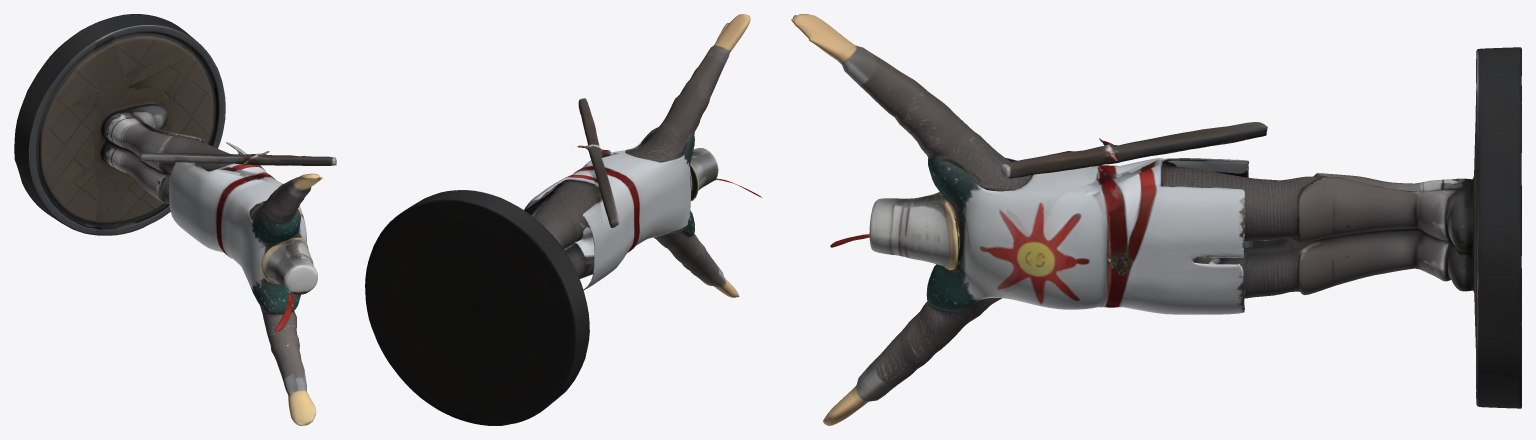
Rendered from sola.obj.
3 views of the same model, side by side, from view 1: azimuth 30°, elevation 25°; view 2: azimuth 150°, elevation 25°; view 3: azimuth 270°, elevation 25° (orthographic). The views are drawn at different scales.
Parts seen in each view (by area): view 1: model; view 2: model; view 3: model.
Part boxes in pixels (x1,y1,x2,y2): model: (14,14,336,425); model: (365,14,761,425); model: (791,14,1521,425).
Size of the model in its own units: 0.9376 by 1.17 by 1.89.
Materials: 1 (1 with a texture image).
